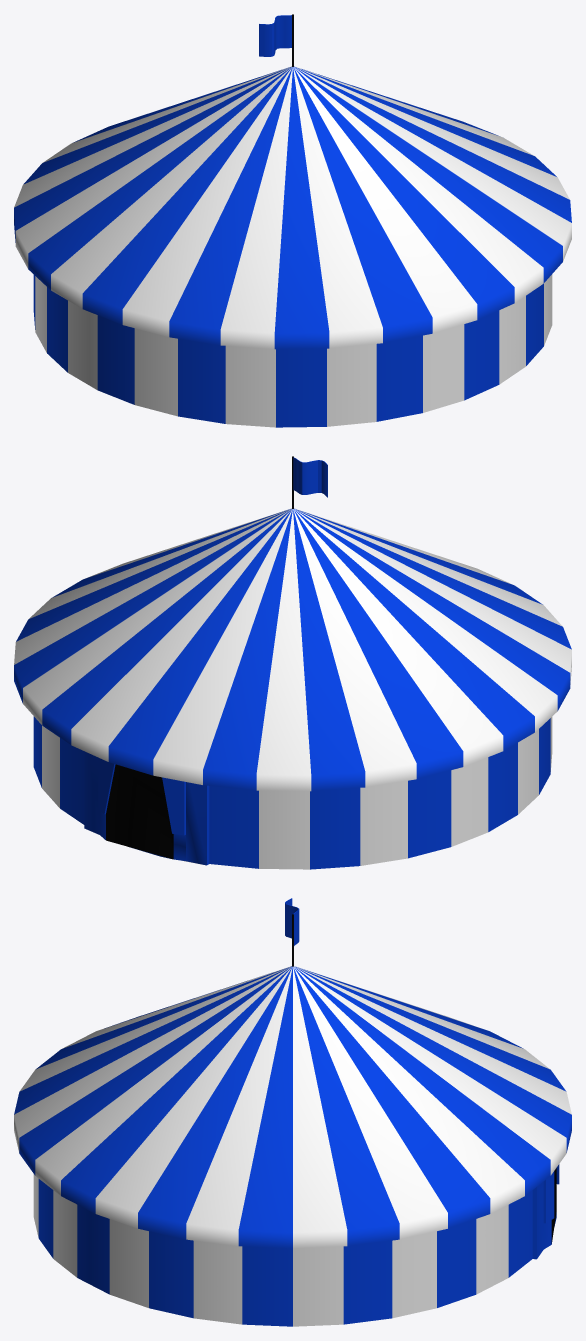
The model's file is tentfairgroundBLUE.fbx.
The picture shows the model from 3 angles, top to bottom: view 1: azimuth 30°, elevation 25°; view 2: azimuth 150°, elevation 25°; view 3: azimuth 270°, elevation 25°; orthographic projection.
Parts seen in each view (by area): view 1: tentfairgroundBLUE; view 2: tentfairgroundBLUE; view 3: tentfairgroundBLUE.
Part boxes in pixels (left/top/right/bottom): tentfairgroundBLUE: left=14, top=14, right=571, bottom=427; tentfairgroundBLUE: left=14, top=456, right=571, bottom=869; tentfairgroundBLUE: left=14, top=898, right=571, bottom=1326.
Size of the model in its own units: 3937 by 2355 by 3937.
